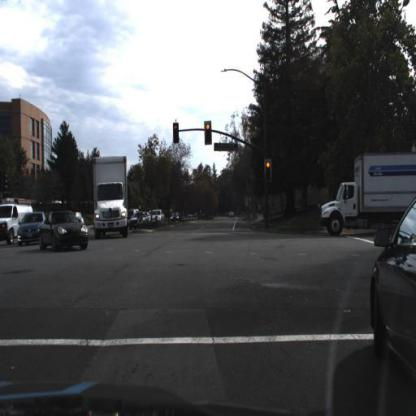car: (369, 190, 416, 412), (370, 189, 416, 384), (39, 210, 92, 254), (3, 201, 37, 243), (16, 209, 46, 246), (72, 211, 88, 227), (148, 210, 164, 224)
trafficLight-Red: (263, 159, 275, 188), (204, 120, 214, 147)
trafficLight-RedLeft: (173, 121, 181, 148)
truck: (318, 149, 416, 239), (90, 155, 132, 237)
